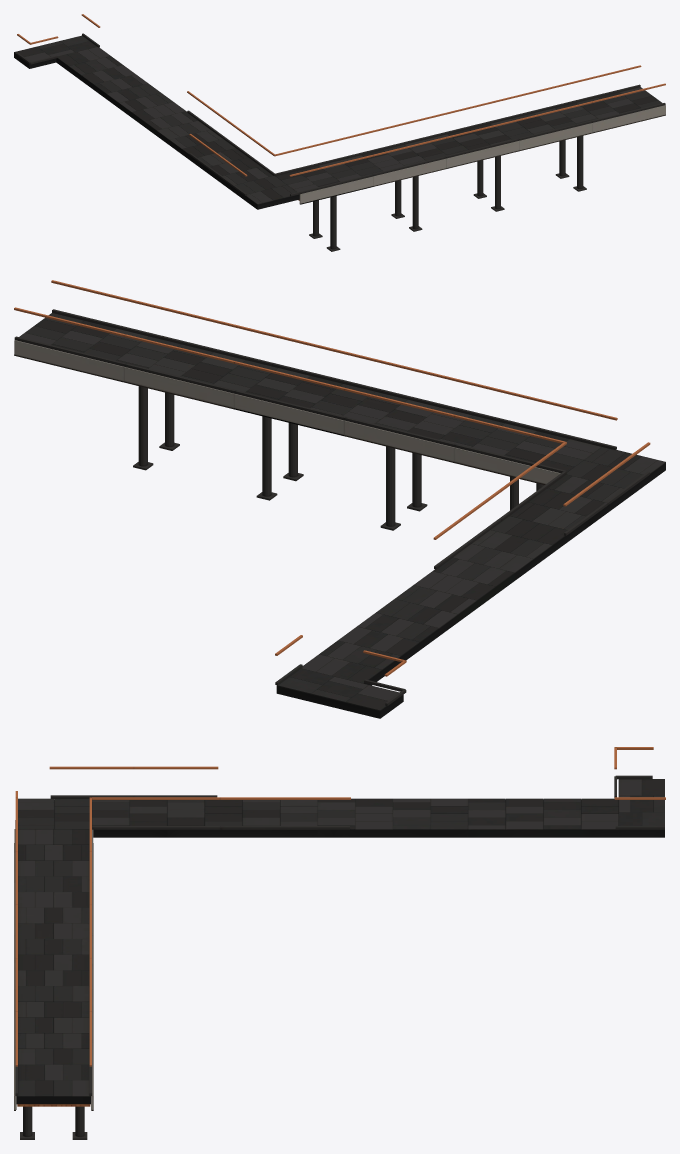
File: walkway_deck.glb
3 views of the same model, one above another, from view 1: azimuth 30°, elevation 25°; view 2: azimuth 150°, elevation 25°; view 3: azimuth 270°, elevation 25° (orthographic). The views are drawn at different scales.
Parts seen in each view (by area): view 1: walkway_deck; view 2: walkway_deck; view 3: walkway_deck.
Boxes of the visible parts, box(x1,y1,x2,y2) form: walkway_deck: box(14, 14, 665, 251); walkway_deck: box(14, 280, 665, 718); walkway_deck: box(14, 747, 665, 1139).
Bounding box in the file's own units: 24.38 × 4.7 × 21.12.
Materials: 1 (1 with a texture image).
